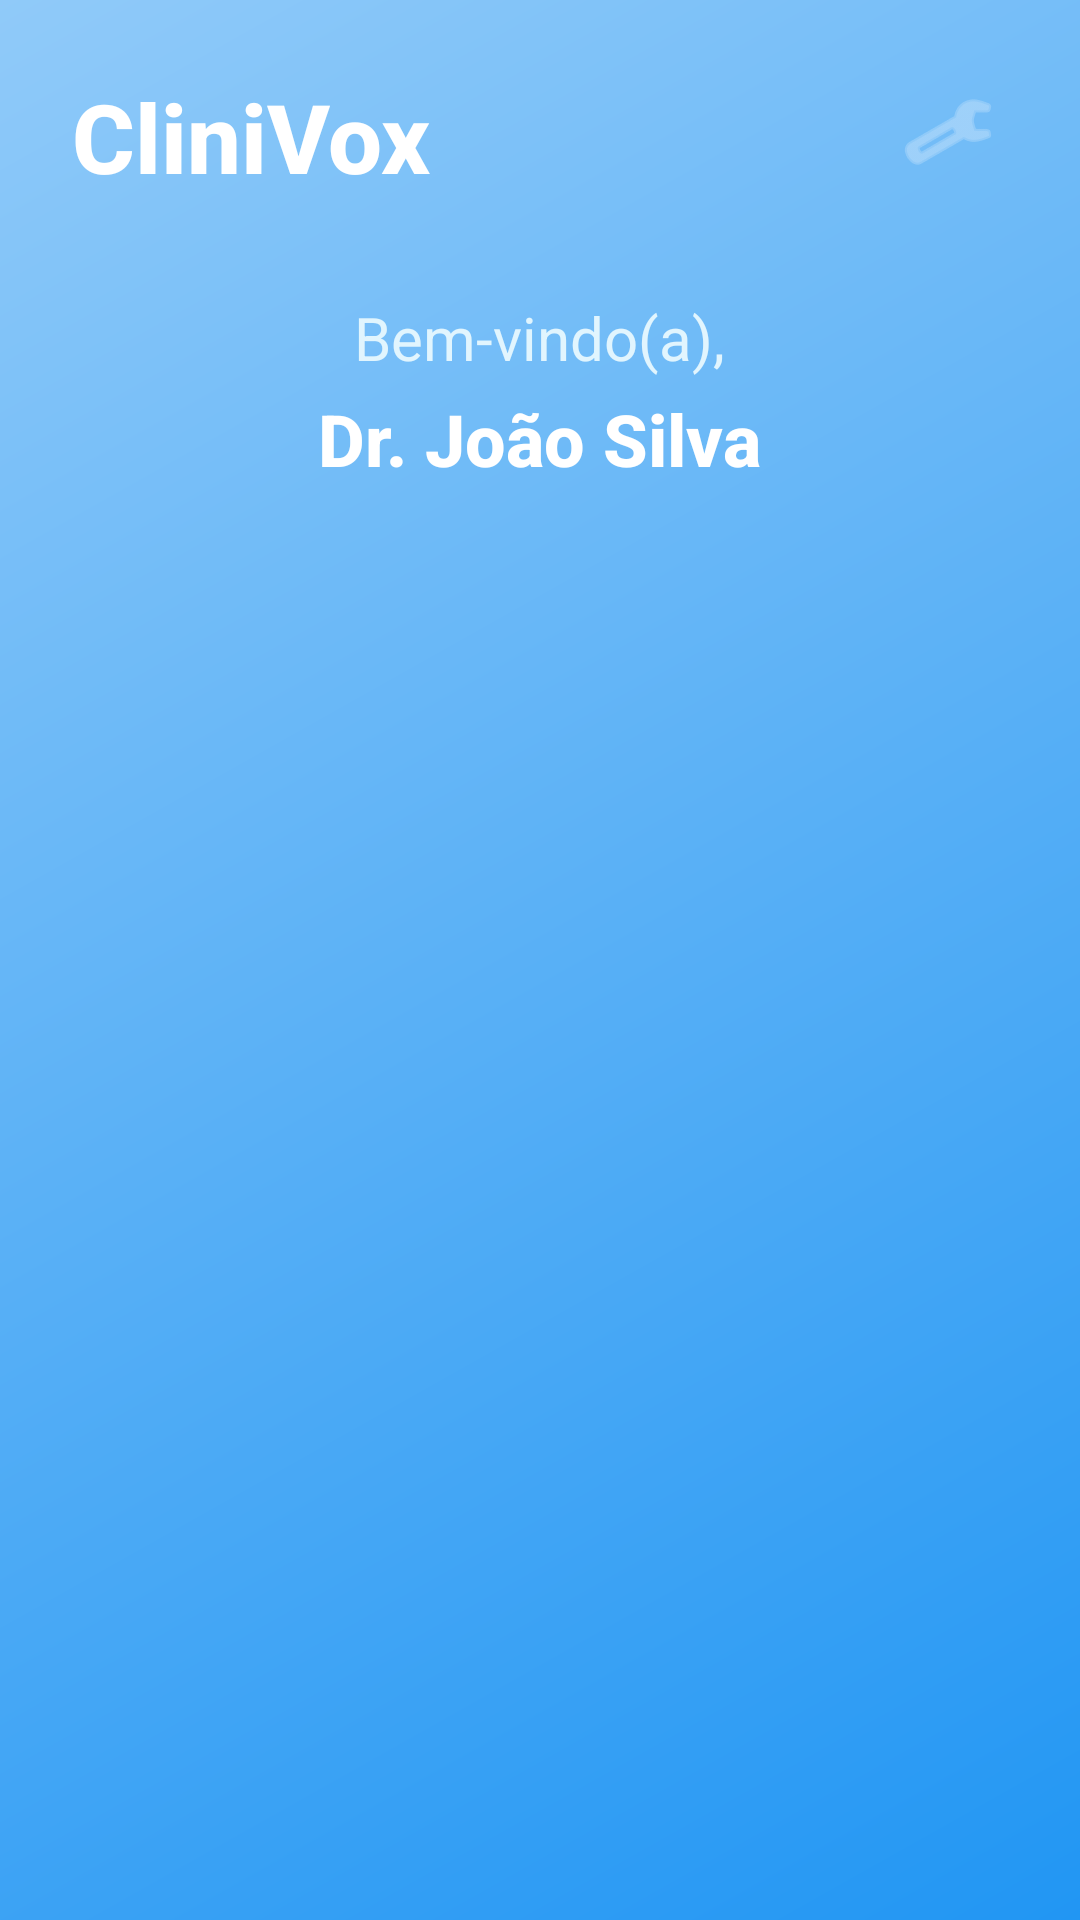

Where to tap for icons on this 1080*1920 app screen, as (x=x, y=y):
Configurações: (x=948, y=132)
